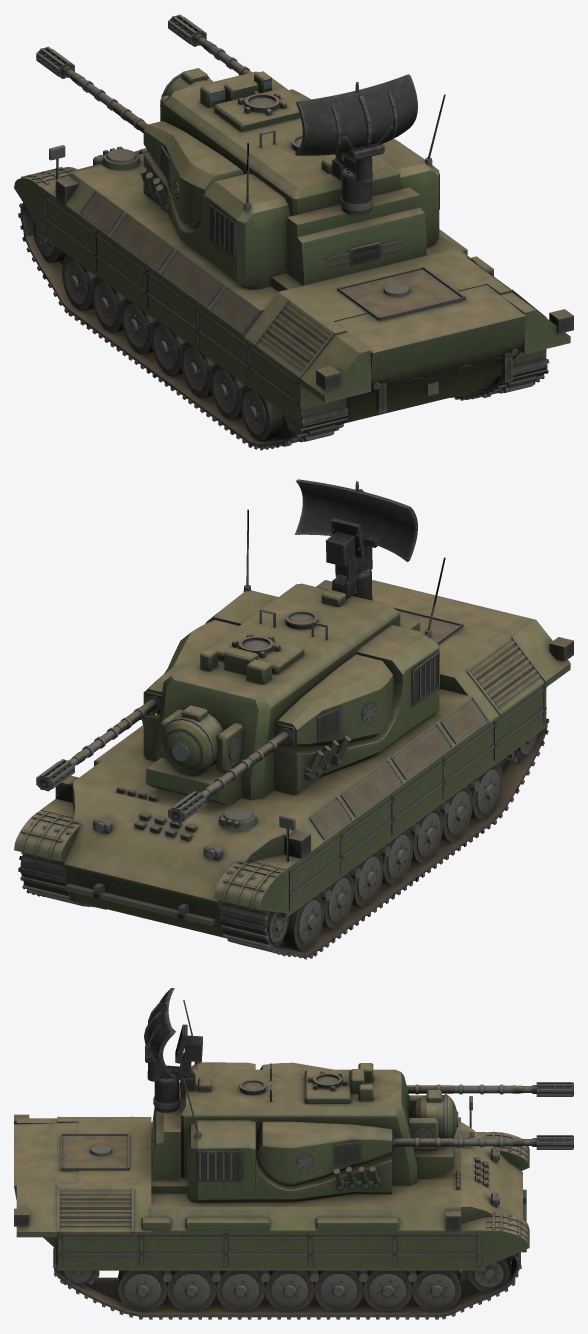
File: gepard.glb
3 views of the same model, one above another, from view 1: azimuth 30°, elevation 25°; view 2: azimuth 150°, elevation 25°; view 3: azimuth 270°, elevation 25° (orthographic). The views are drawn at different scales.
Visible parts, largest first — view 1: body_hull, turret_main, body_run, radar_antenna, cradle_guns, body_slopes, body_misc; view 2: body_hull, turret_main, body_run, cradle_guns, radar_antenna, body_slopes, body_misc; view 3: body_hull, turret_main, body_run, cradle_guns, radar_antenna, body_slopes, body_misc.
Boxes of the visible parts, x1,y1,x2,y2 form: body_hull: (14,146,570,424); turret_main: (139,68,439,289); body_run: (18,203,549,450); radar_antenna: (295,74,417,215); cradle_guns: (36,14,310,228); body_slopes: (79,191,546,378); body_misc: (49,145,573,390); body_hull: (14,580,570,938); turret_main: (141,583,439,805); body_run: (18,708,549,959); cradle_guns: (36,620,394,823); radar_antenna: (294,479,417,600); body_slopes: (309,637,546,839); body_misc: (55,580,573,861); body_hull: (14,1117,529,1281); turret_main: (152,1062,458,1202); body_run: (53,1243,521,1319); cradle_guns: (257,1062,573,1186); radar_antenna: (144,988,202,1112); body_slopes: (57,1116,152,1231); body_misc: (14,1096,472,1230).
Bounding box in the file's own units: 3.24 × 4.03 × 7.66.
4 materials, 4 textured.
